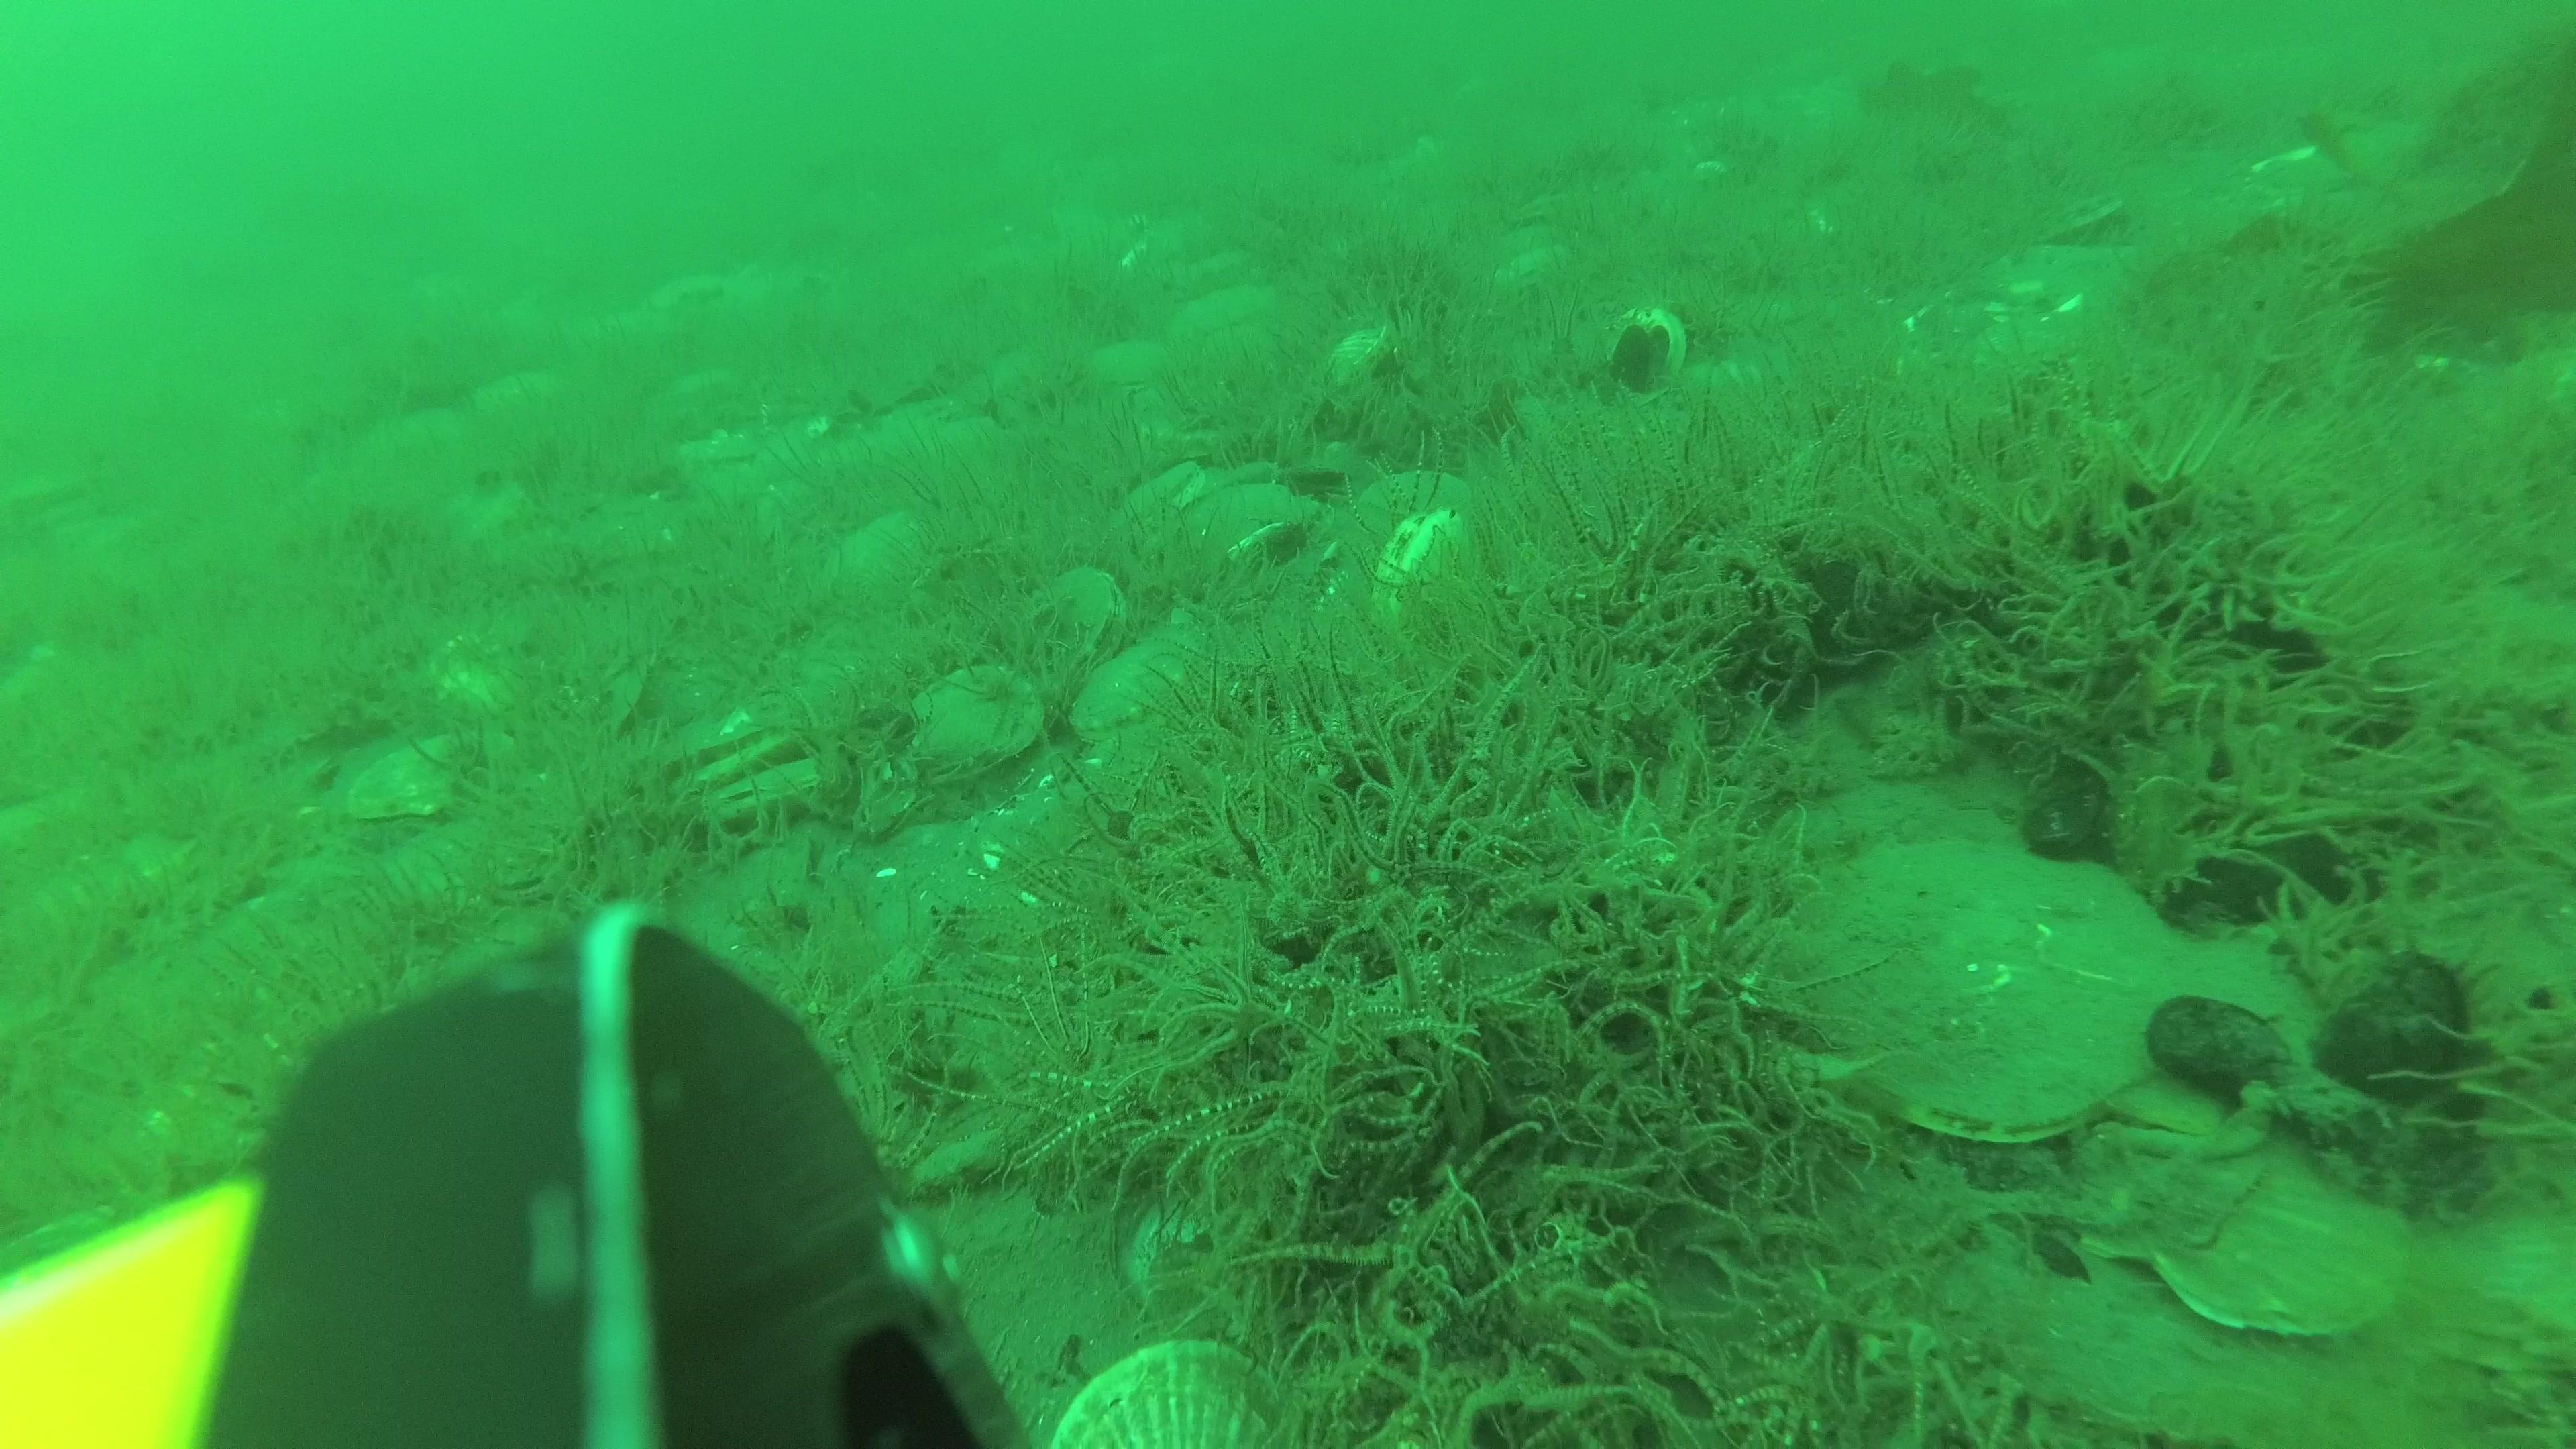scallop: (1798, 824, 2185, 1132), (2169, 1129, 2413, 1323), (2093, 947, 2319, 1145), (2052, 1065, 2270, 1256), (1047, 1341, 1313, 1449), (1131, 1201, 1288, 1346), (1069, 632, 1215, 752), (904, 663, 1042, 771), (1175, 481, 1316, 582), (361, 731, 506, 826), (1350, 469, 1476, 577), (1016, 568, 1127, 686), (833, 517, 943, 605), (660, 718, 789, 793), (1309, 315, 1385, 432), (1079, 333, 1184, 410), (1115, 462, 1223, 536), (702, 759, 816, 826), (1177, 276, 1274, 350)
